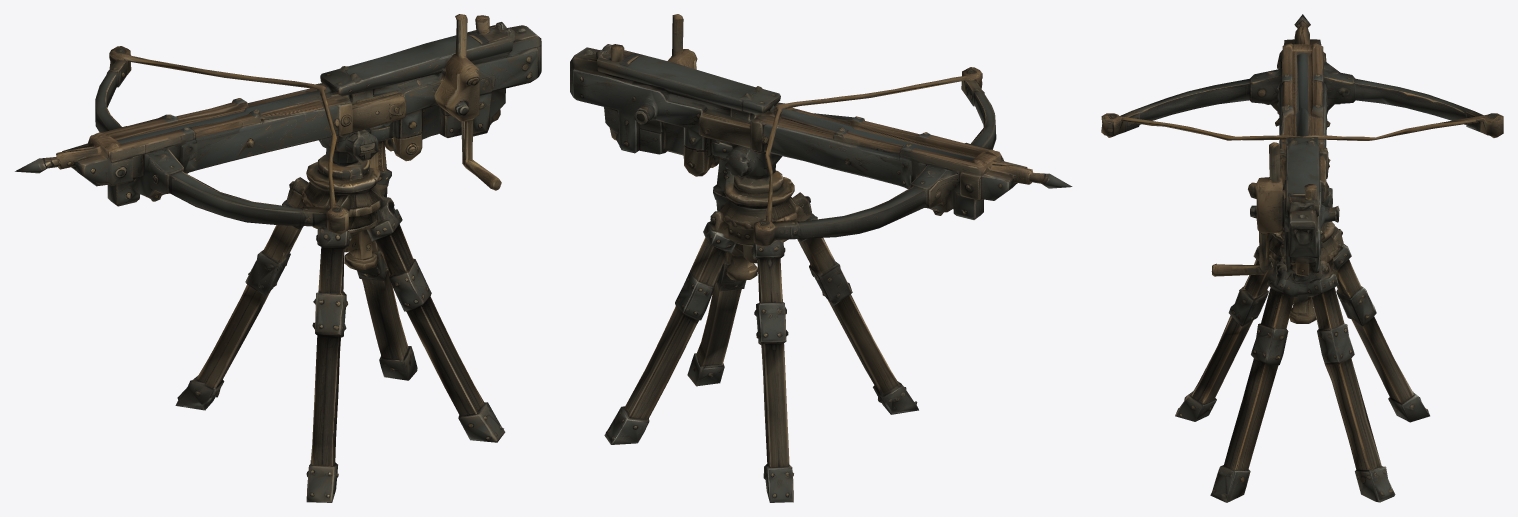
The model's file is SM_ArrowTower.glb.
The picture shows the model from 3 angles, left to right: view 1: azimuth 30°, elevation 25°; view 2: azimuth 150°, elevation 25°; view 3: azimuth 270°, elevation 25°; orthographic projection. The views are drawn at different scales.
Parts seen in each view (by area): view 1: Mesh_0; view 2: Mesh_0; view 3: Mesh_0.
Part boxes in pixels (x1=…): Mesh_0: x1=15, y1=14, x2=541, y2=502; Mesh_0: x1=570, y1=14, x2=1072, y2=502; Mesh_0: x1=1101, y1=14, x2=1503, y2=502.
Size of the model in its own units: 2.71 by 2 by 2.07.
Materials: 1 (1 with a texture image).
